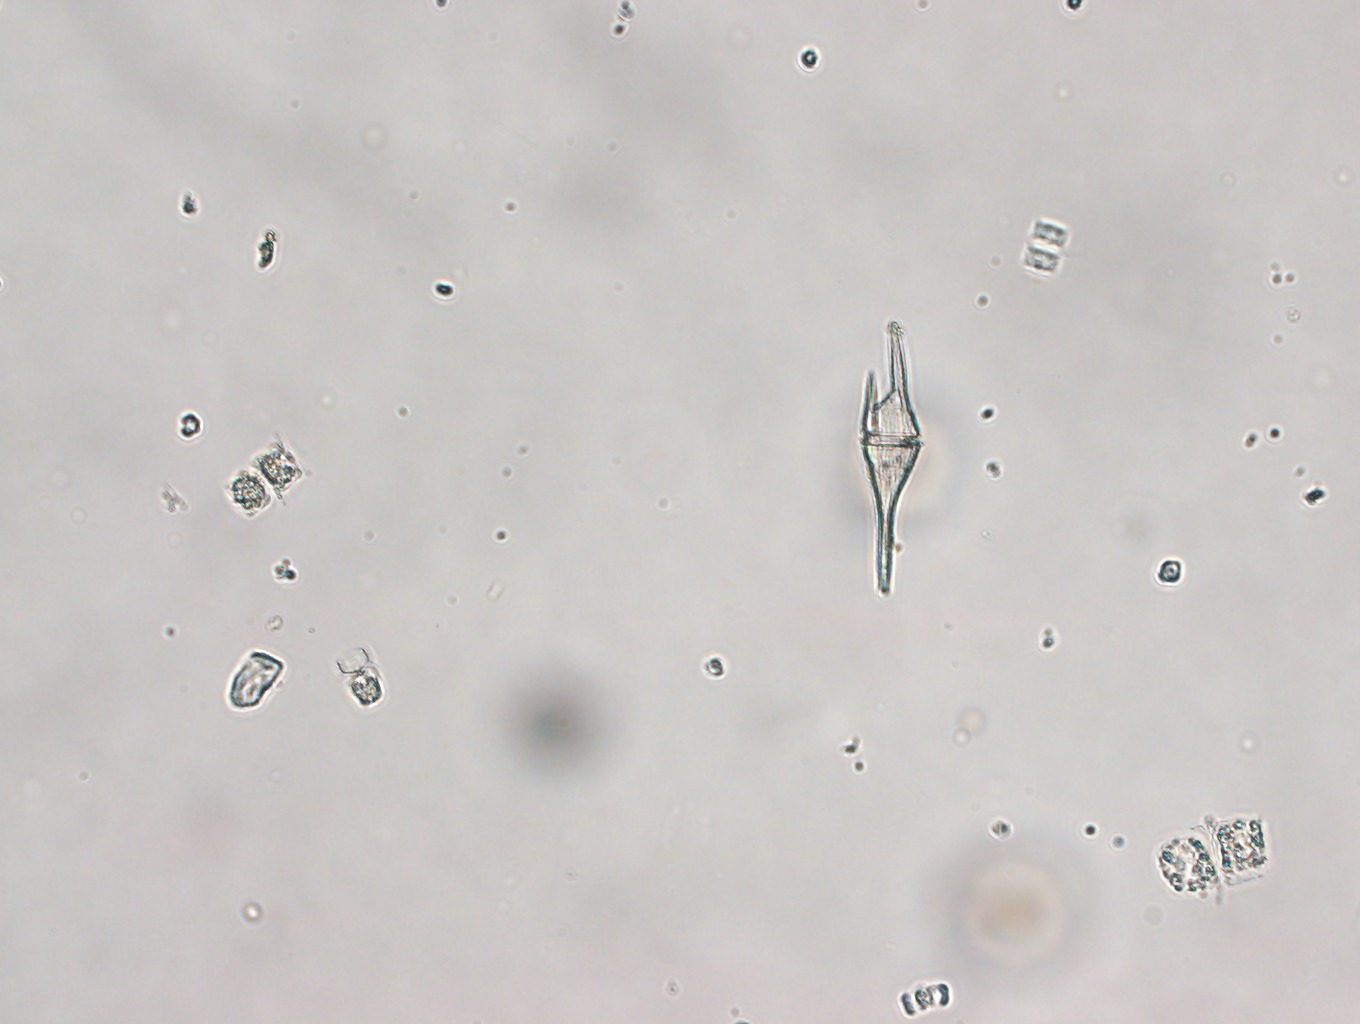thalassionema nitzschioides: (851, 312, 927, 606)
